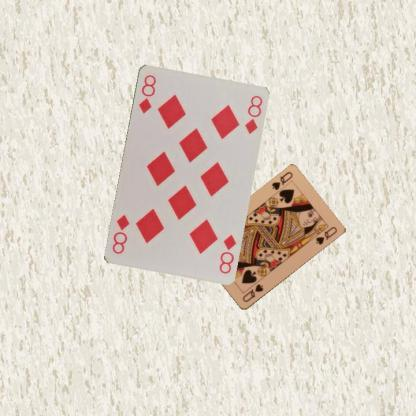8d: (216, 232, 238, 275), (136, 72, 157, 115)
Qs: (269, 169, 294, 192), (240, 281, 264, 304)
